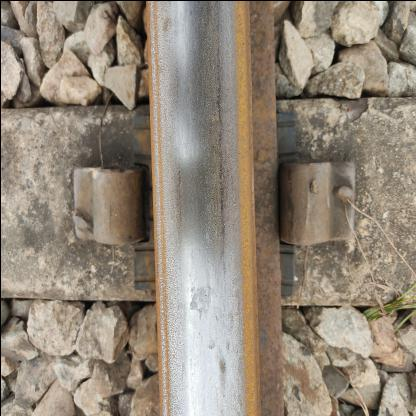Defective 1: (264, 101, 398, 294), (32, 101, 166, 294)
